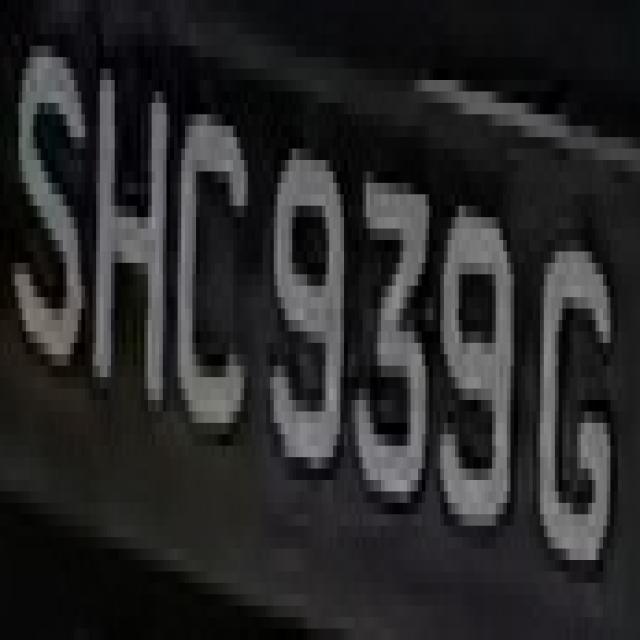3: (352, 160, 426, 537)
9: (266, 114, 348, 514), (432, 206, 522, 560)
C: (170, 91, 259, 480)
G: (529, 206, 618, 617)
H: (85, 34, 174, 412)
S: (11, 23, 85, 400)
